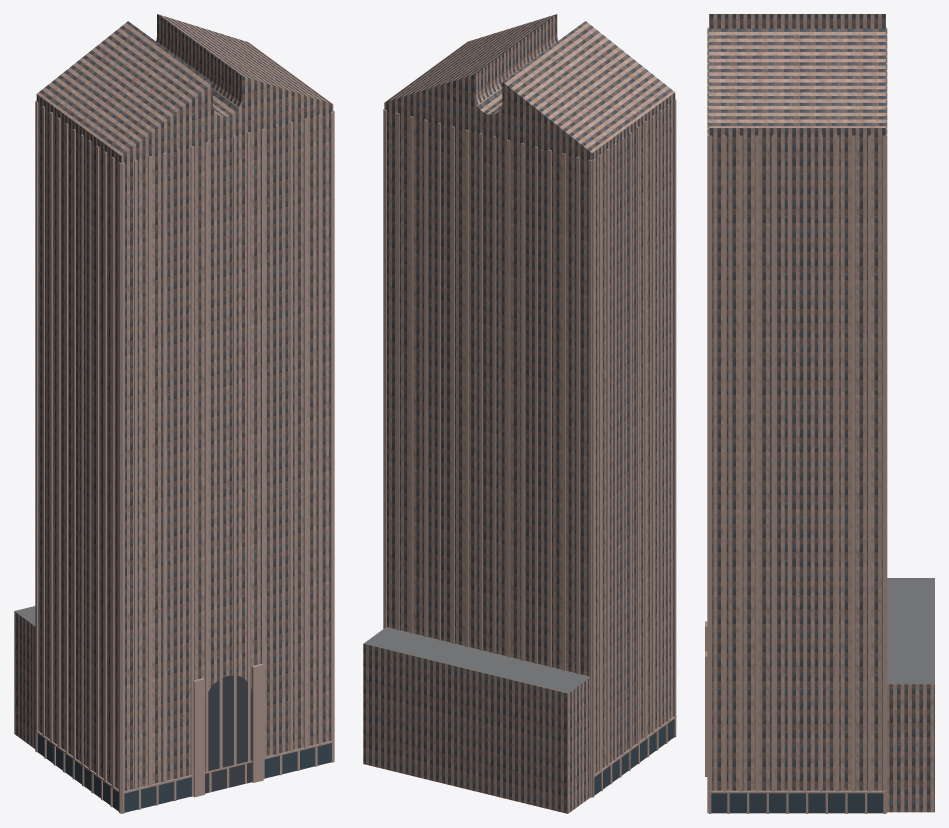
Rendered from sony_building.glb.
The picture shows the model from 3 angles, left to right: view 1: azimuth 30°, elevation 25°; view 2: azimuth 150°, elevation 25°; view 3: azimuth 270°, elevation 25°; orthographic projection. The views are drawn at different scales.
Visible parts, largest first — view 1: sony_building; view 2: sony_building; view 3: sony_building.
Part boxes in pixels (left/top/right/bottom): sony_building: left=14, top=14, right=334, bottom=813; sony_building: left=363, top=14, right=676, bottom=813; sony_building: left=705, top=14, right=934, bottom=813.
Bounding box in the file's own units: 62.19 × 196 × 55.3.
Materials: 2 (2 with a texture image).
